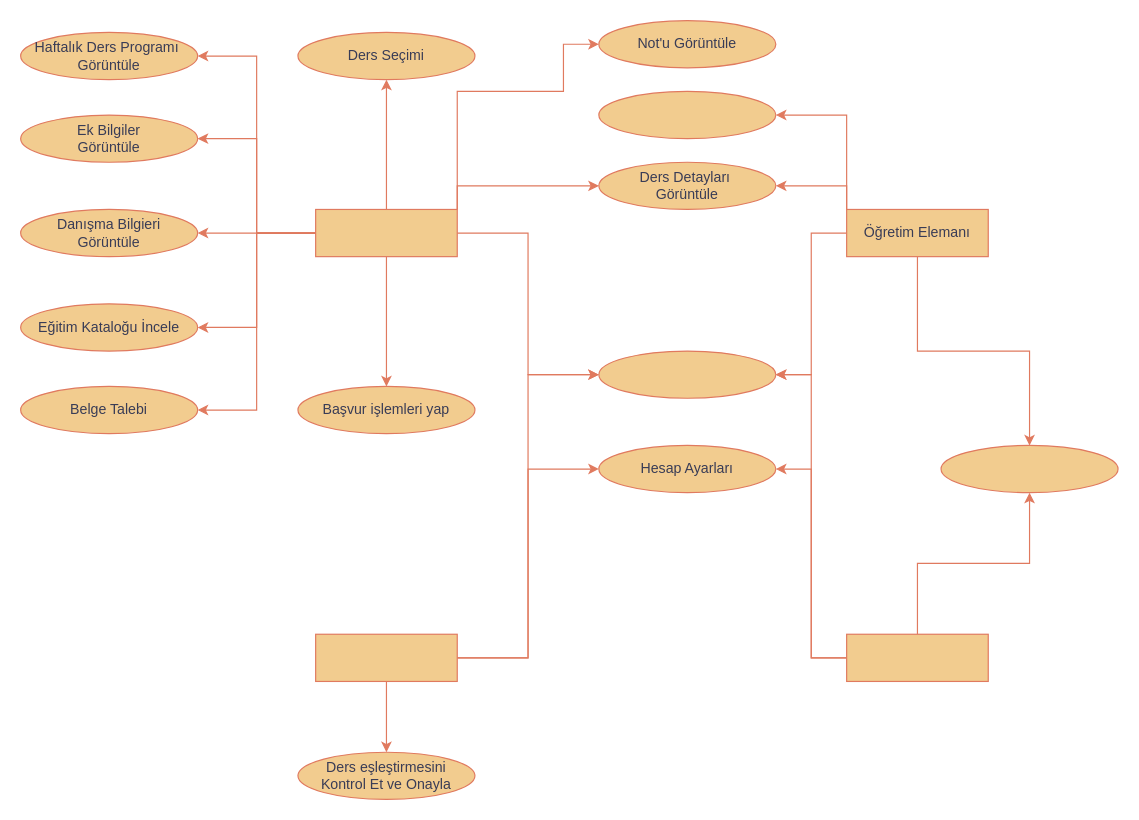
Some shapes in this 1139 by 820 pixel diagram are drawn without their labels. Each missing label, with the centre of its shape:
Danışman: (385,657)
Ders Eşleştir: (1029,468)
İdareci: (916,657)
Not İlan: (687,114)
Sisteme Giriş: (687,374)
Öğrenci: (385,232)
